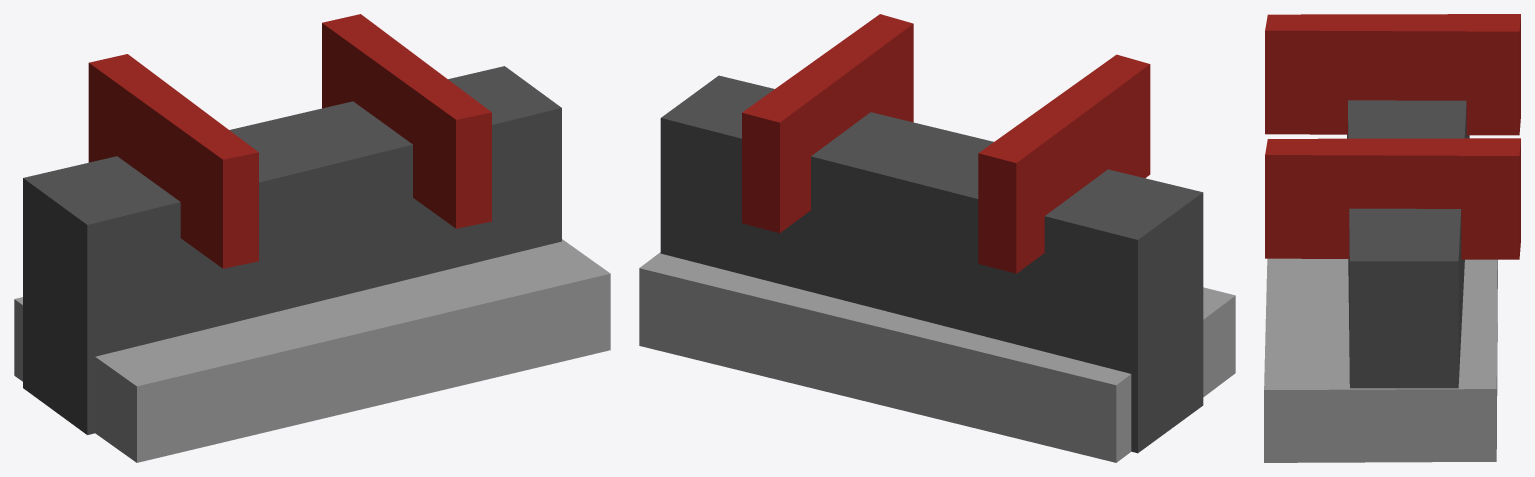
File: saoPauloBuilding.dae
3 views of the same model, side by side, from view 1: azimuth 30°, elevation 25°; view 2: azimuth 150°, elevation 25°; view 3: azimuth 270°, elevation 25° (orthographic). The views are drawn at different scales.
Parts seen in each view (by area): view 1: building; view 2: building; view 3: building.
Boxes of the visible parts, x1,y1,x2,y2 form: building: (14, 14, 610, 462); building: (639, 14, 1235, 462); building: (1264, 14, 1520, 462).
Bounding box in the file's own units: 7.45 × 4.2 × 3.63.
